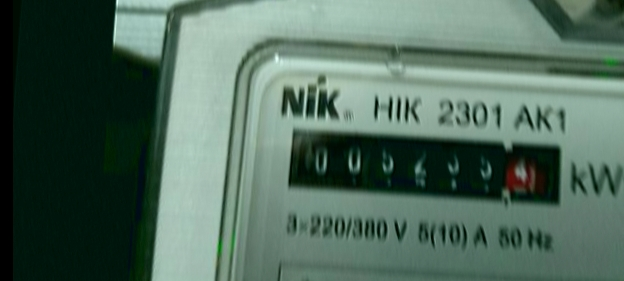0: (345, 142, 368, 176), (313, 143, 333, 176)
2: (411, 144, 435, 179)
3: (443, 144, 470, 179)
4: (512, 149, 536, 187)
5: (477, 146, 502, 183), (379, 142, 401, 177)
screen: (272, 111, 580, 221)
